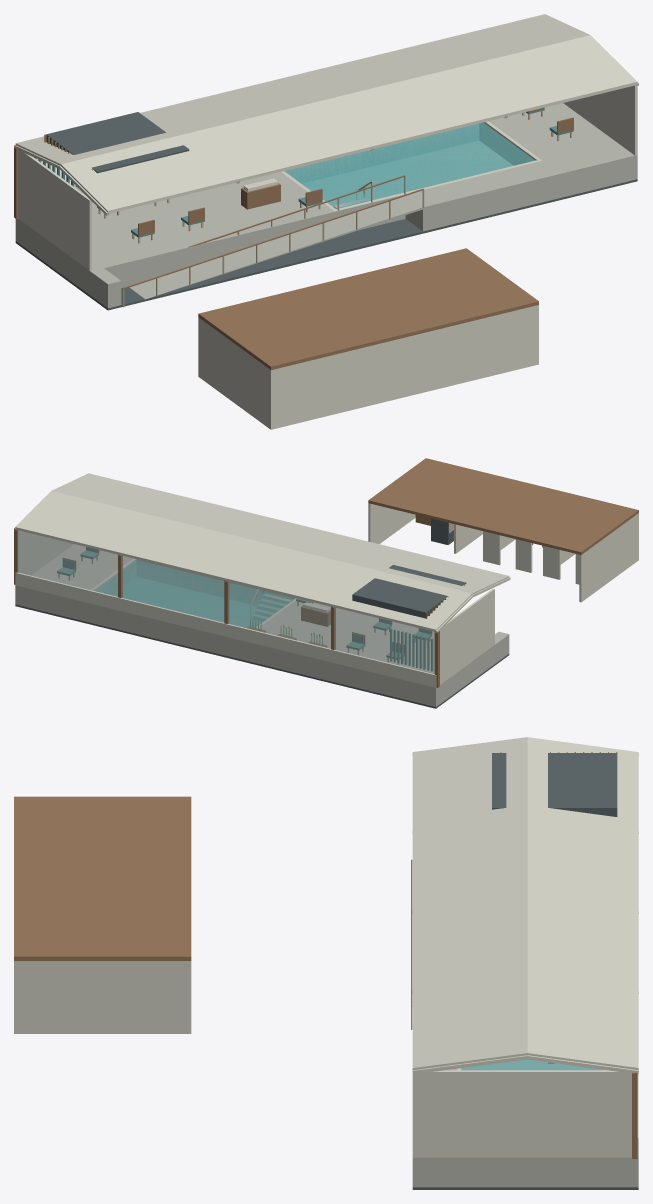
The model's file is VIP_QUIET_r001.glb.
The picture shows the model from 3 angles, top to bottom: view 1: azimuth 30°, elevation 25°; view 2: azimuth 150°, elevation 25°; view 3: azimuth 270°, elevation 25°; orthographic projection. The views are drawn at different scales.
Parts seen in each view (by area): view 1: G2VIP_QUIET_RoofPanel1, G2VIP_QUIET_AftRoof, G2VIP_QUIET_AftBack, G2VIP_QUIET_RoofPanel0, G2VIP_QUIET_TerraceWest, G2VIP_QUIET_Water_Illustrative, G2VIP_QUIET_TerraceEast, G2VIP_QUIET_TerraceAftLanding, G2VIP_QUIET_VesselFloor, G2VIP_QUIET_InnerWall, G2VIP_QUIET_ArrivalRamp, G2VIP_QUIET_BearingPad (+9 smaller); view 2: G2VIP_QUIET_RoofPanel0, G2VIP_QUIET_ForeClerestory, G2VIP_QUIET_AftRoof, G2VIP_QUIET_RoofPanel1, G2VIP_QUIET_TerraceFore, G2VIP_QUIET_Water_Illustrative, G2VIP_QUIET_ForePlinth, G2VIP_QUIET_TerraceWest, G2VIP_QUIET_InnerWall, G2VIP_QUIET_AftWest, G2VIP_QUIET_OverheadPlantCasing, G2VIP_QUIET_TerraceEast (+11 smaller); view 3: G2VIP_QUIET_RoofPanel1, G2VIP_QUIET_RoofPanel0, G2VIP_QUIET_AftRoof, G2VIP_QUIET_OuterWall, G2VIP_QUIET_AftEast, G2VIP_QUIET_TerraceEast, G2VIP_QUIET_OverheadPlantCasing, G2VIP_QUIET_Water_Illustrative, G2VIP_QUIET_TerraceFore, G2VIP_QUIET_VesselFloor, G2VIP_QUIET_BearingPad.
Boxes of the visible parts, box(x1,y1,x2,y2) form: G2VIP_QUIET_RoofPanel1: box(61, 35, 637, 213); G2VIP_QUIET_AftRoof: box(198, 248, 538, 369); G2VIP_QUIET_AftBack: box(269, 305, 538, 429); G2VIP_QUIET_RoofPanel0: box(15, 14, 589, 165); G2VIP_QUIET_TerraceWest: box(28, 172, 334, 294); G2VIP_QUIET_Water_Illustrative: box(284, 122, 534, 208); G2VIP_QUIET_TerraceEast: box(489, 103, 637, 197); G2VIP_QUIET_TerraceAftLanding: box(405, 161, 560, 231); G2VIP_QUIET_VesselFloor: box(302, 141, 512, 206); G2VIP_QUIET_InnerWall: box(18, 150, 91, 270); G2VIP_QUIET_ArrivalRamp: box(129, 195, 422, 299); G2VIP_QUIET_BearingPad: box(15, 179, 637, 310); G2VIP_QUIET_RoofPanel0: box(15, 491, 471, 631); G2VIP_QUIET_ForeClerestory: box(17, 530, 434, 673); G2VIP_QUIET_AftRoof: box(368, 458, 638, 554); G2VIP_QUIET_RoofPanel1: box(51, 473, 509, 594); G2VIP_QUIET_TerraceFore: box(15, 585, 445, 706); G2VIP_QUIET_Water_Illustrative: box(95, 560, 294, 627); G2VIP_QUIET_ForePlinth: box(15, 572, 436, 687); G2VIP_QUIET_TerraceWest: box(259, 601, 495, 699); G2VIP_QUIET_InnerWall: box(440, 589, 494, 684); G2VIP_QUIET_AftWest: box(579, 514, 637, 602); G2VIP_QUIET_OverheadPlantCasing: box(352, 565, 466, 618); G2VIP_QUIET_TerraceEast: box(31, 544, 132, 589); G2VIP_QUIET_RoofPanel1: box(412, 737, 527, 1069); G2VIP_QUIET_RoofPanel0: box(527, 737, 638, 1069); G2VIP_QUIET_AftRoof: box(14, 796, 191, 960); G2VIP_QUIET_OuterWall: box(412, 1070, 631, 1157); G2VIP_QUIET_AftEast: box(17, 961, 191, 1033); G2VIP_QUIET_TerraceEast: box(412, 1157, 607, 1187); G2VIP_QUIET_OverheadPlantCasing: box(492, 753, 617, 816); G2VIP_QUIET_Water_Illustrative: box(461, 1059, 602, 1070); G2VIP_QUIET_TerraceFore: box(608, 1157, 638, 1187); G2VIP_QUIET_VesselFloor: box(461, 1059, 601, 1069); G2VIP_QUIET_BearingPad: box(412, 1187, 638, 1189).
Bounding box in the file's own units: 31.84 × 6.38 × 26.41.
